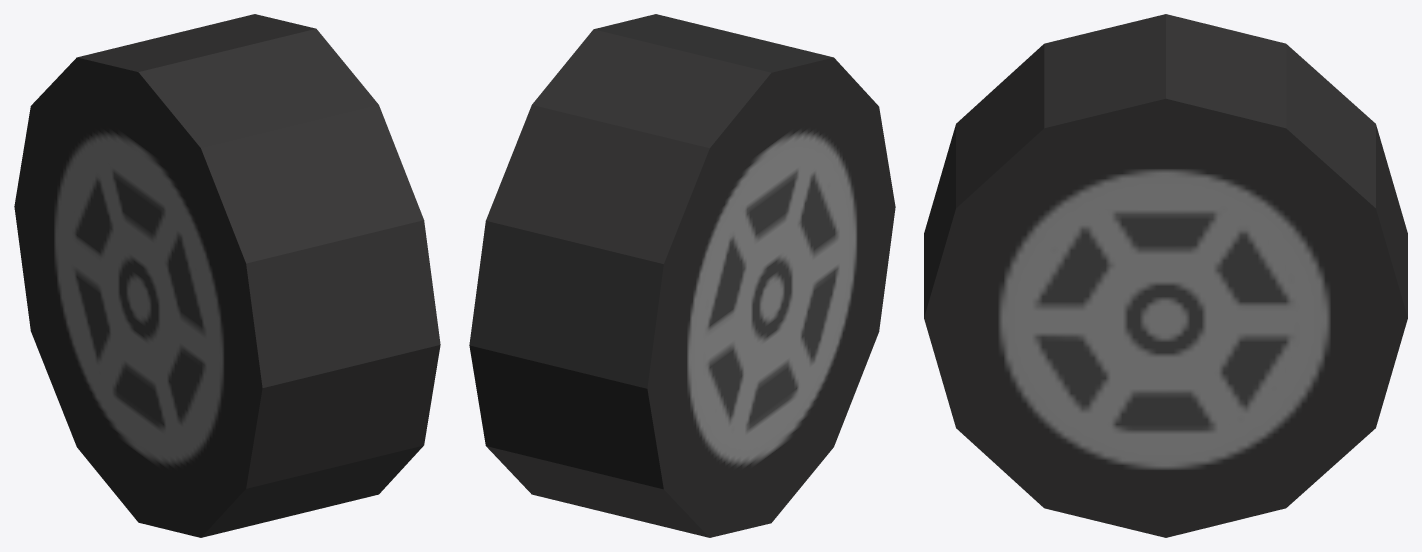
Rendered from CityModel_PoliceCars_Wheel.glb.
3 views of the same model, side by side, from view 1: azimuth 30°, elevation 25°; view 2: azimuth 150°, elevation 25°; view 3: azimuth 270°, elevation 25° (orthographic). The views are drawn at different scales.
Parts seen in each view (by area): view 1: wheel_1; view 2: wheel_1; view 3: wheel_1.
Boxes of the visible parts, bbox=[...] form: wheel_1: bbox=[14, 14, 440, 537]; wheel_1: bbox=[469, 14, 895, 537]; wheel_1: bbox=[924, 14, 1407, 537].
Size of the model in its own units: 0.393 by 0.9502 by 0.9488.
Materials: 1 (1 with a texture image).
